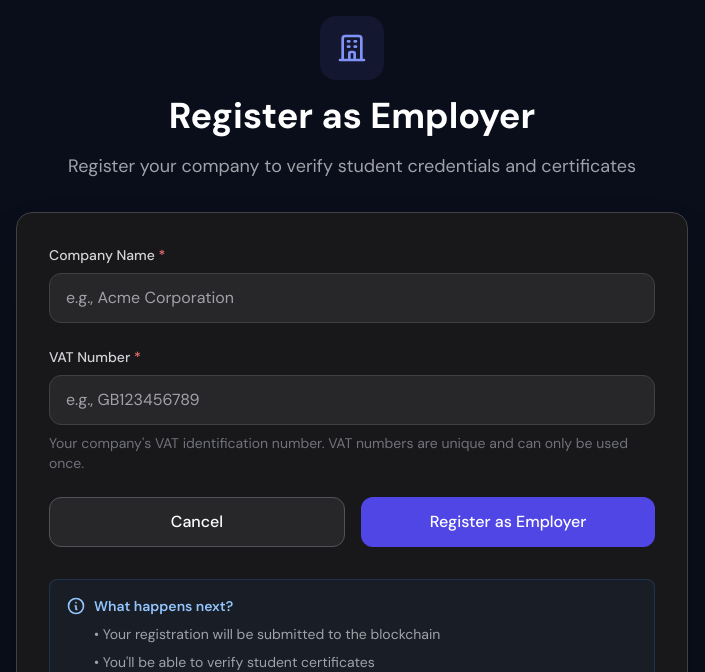
Test case: EmployerRegister VAT validation messaging › blocks submit and shows validation guidance when VAT is taken
Type "Acme Corporation" into the field labelled "Company Name *" at (352, 298), box [49,273,655,323]
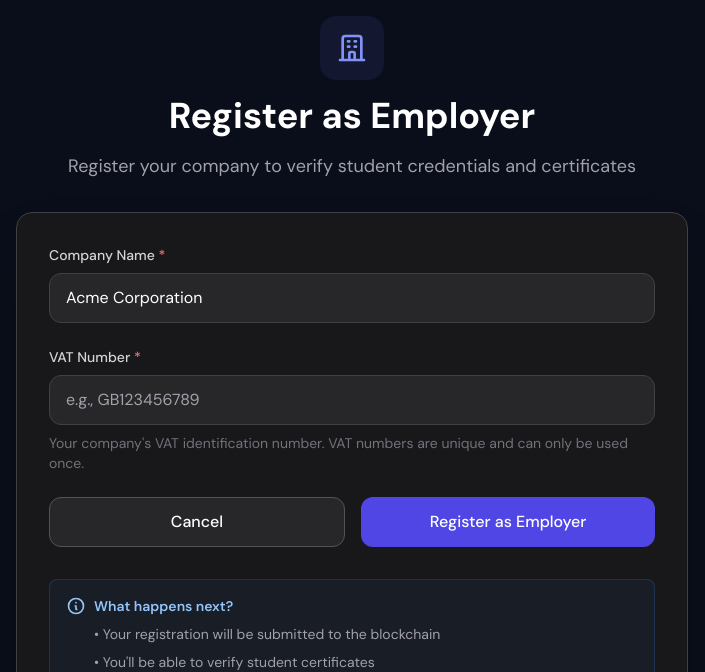
Type "GB123456789" into the field labelled "VAT Number *" at (352, 400), box [49,375,655,425]
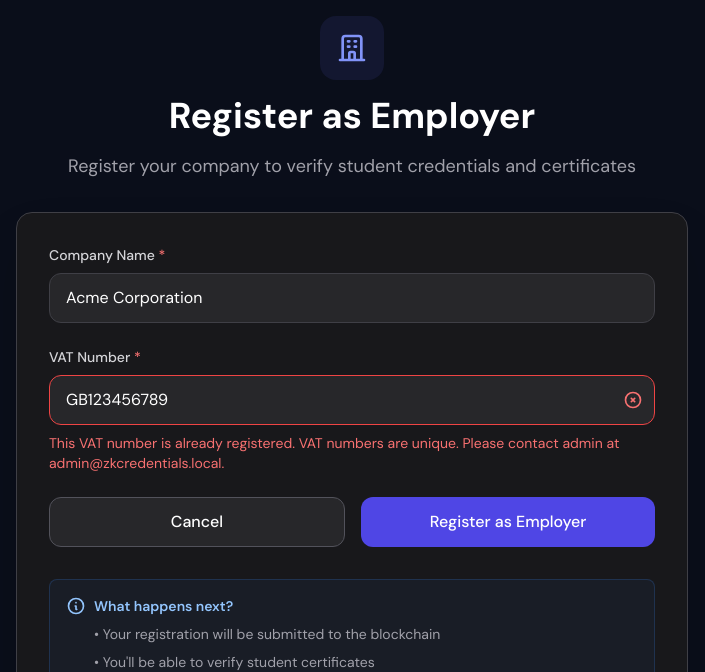
Click the button "Register as Employer" at (508, 522), box [361,497,655,547]
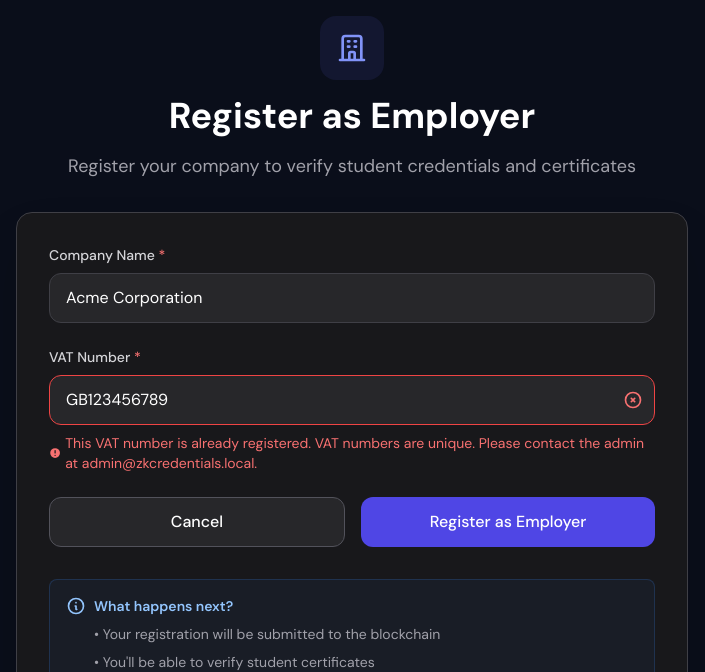
Expected: the text "Please contact the admin at" is shown, [65,434,644,472]
